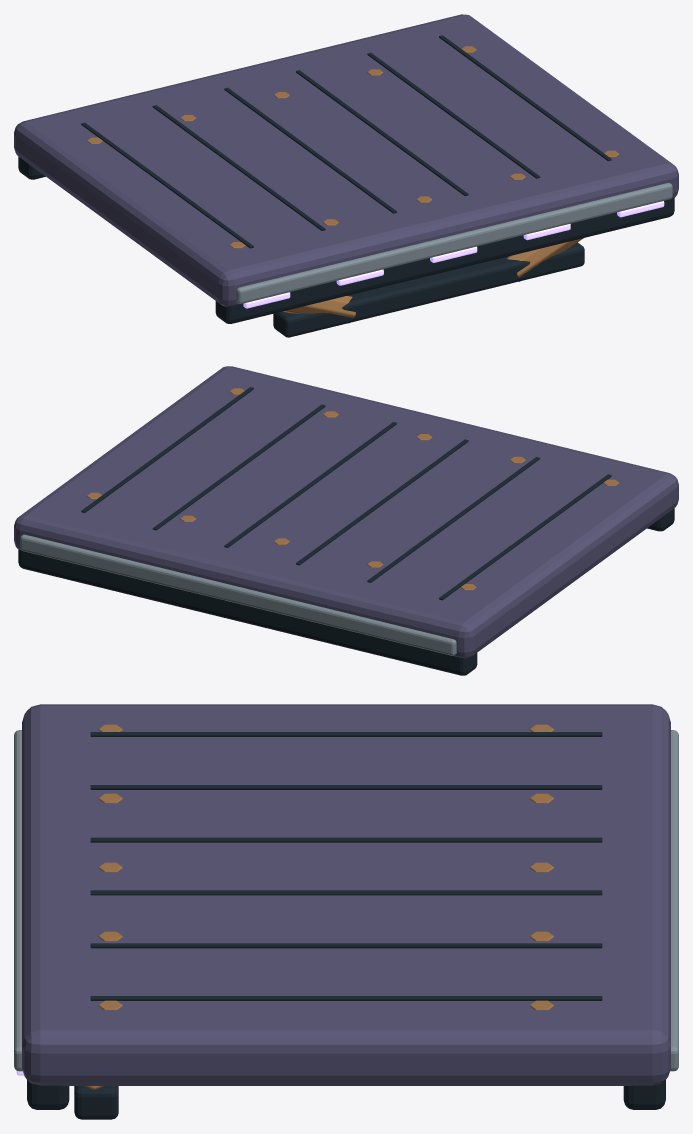
File: traverse_ledge.glb
3 views of the same model, one above another, from view 1: azimuth 30°, elevation 25°; view 2: azimuth 150°, elevation 25°; view 3: azimuth 270°, elevation 25° (orthographic). The views are drawn at different scales.
Visible parts, largest first — view 1: traverse_ledge; view 2: traverse_ledge; view 3: traverse_ledge.
Boxes of the visible parts, x1,y1,x2,y2 form: traverse_ledge: [14, 14, 678, 337]; traverse_ledge: [14, 366, 678, 675]; traverse_ledge: [14, 704, 678, 1119].
Size of the model in its own units: 3.98 by 0.8298 by 3.3.
